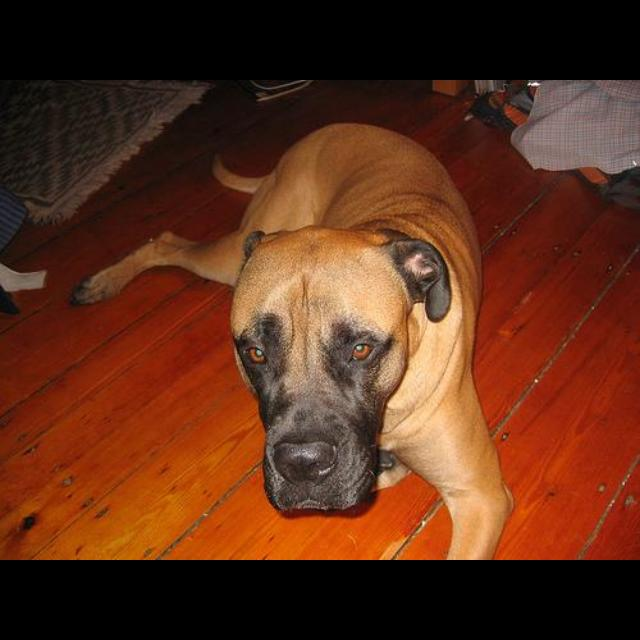bullmastiff: (69, 121, 517, 560)
